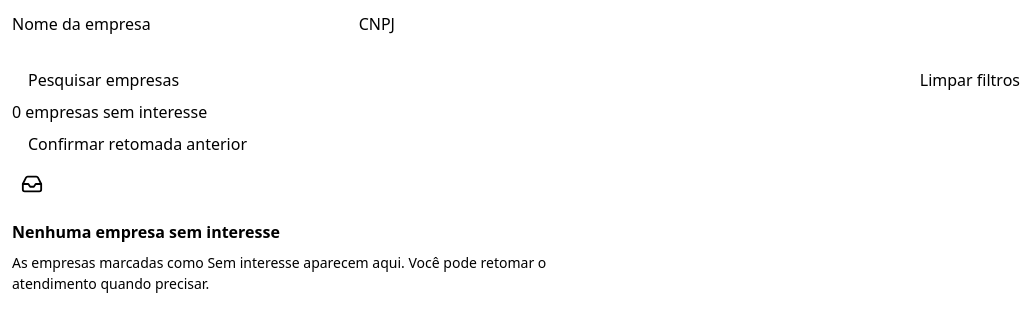
Scenario: retomada desconhecida pode confirmar após refresh sem empresa no arquivo
Click the button "Confirmar retomada anterior": (138, 144) x1=12 y1=124 x2=263 y2=164
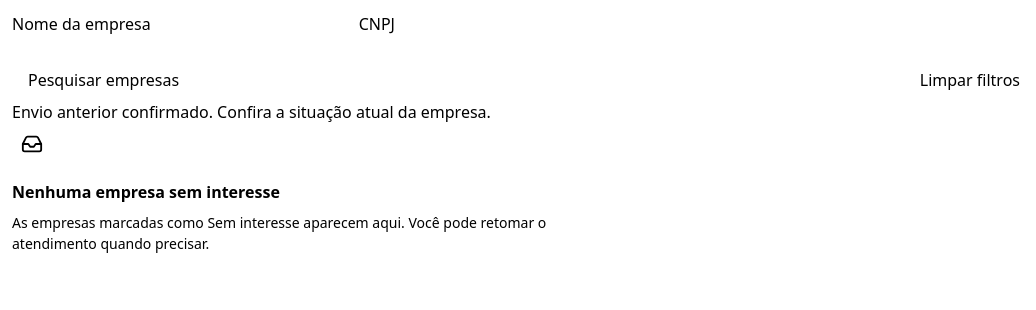
Expected: the text "Envio anterior confirmado" is shown, x1=12 y1=101 x2=491 y2=123
